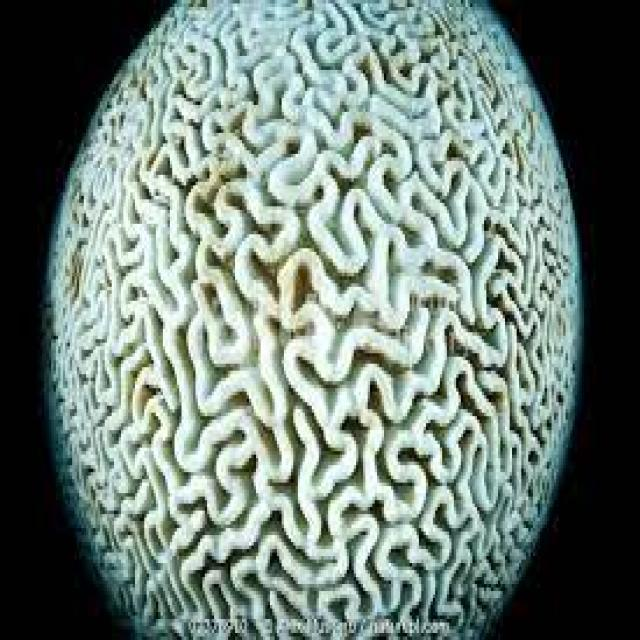Bleached: (40, 1, 594, 640)
